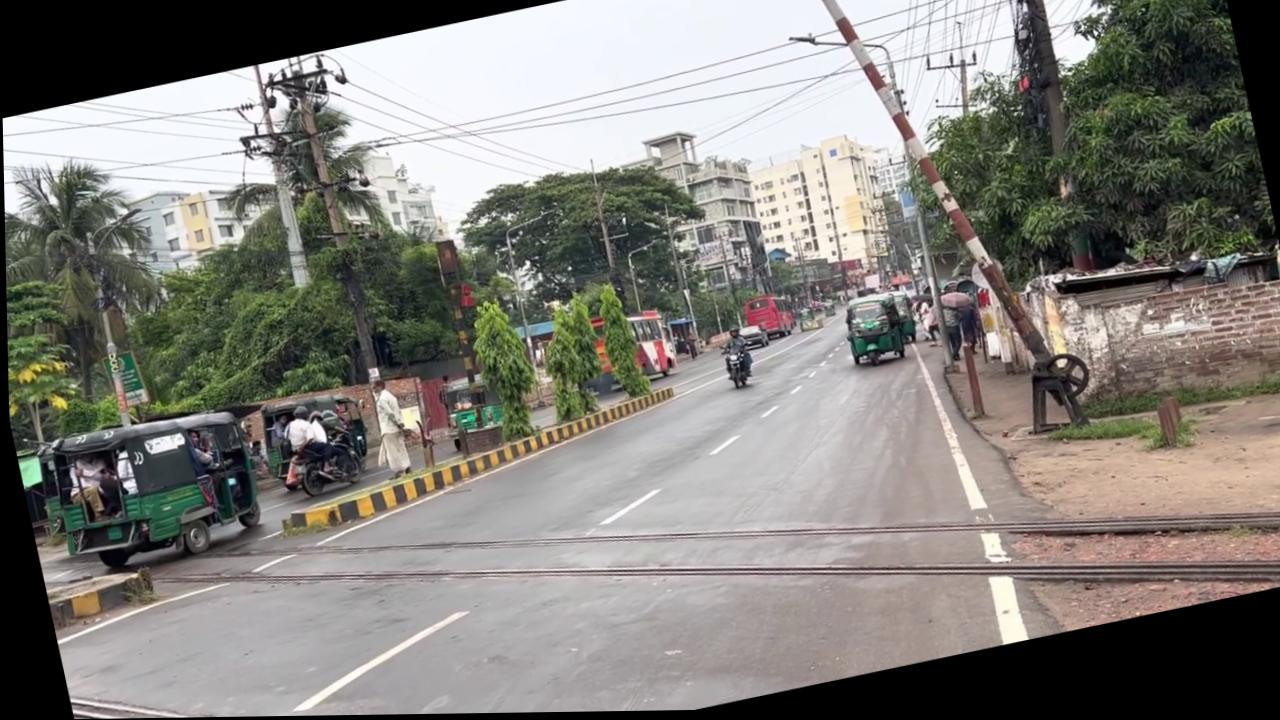Car: (269, 383, 686, 537)
Curb: (715, 340, 755, 393)
Fence: (361, 376, 412, 482)
Garbage: (792, 0, 1088, 465), (962, 0, 1159, 285), (998, 0, 1102, 277), (496, 209, 593, 405), (245, 64, 312, 291)
Motorcycle: (461, 384, 1280, 715)
Pole: (431, 237, 462, 290)
Railroad-crossing: (991, 0, 1277, 294), (459, 292, 546, 445), (526, 294, 611, 425), (587, 279, 650, 403)
Rickshaw: (31, 398, 268, 581)
